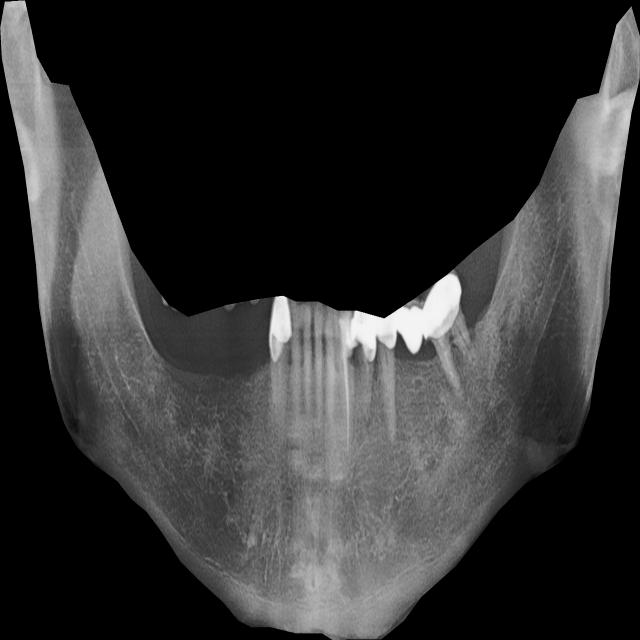mandibula: (0, 0, 640, 640)
